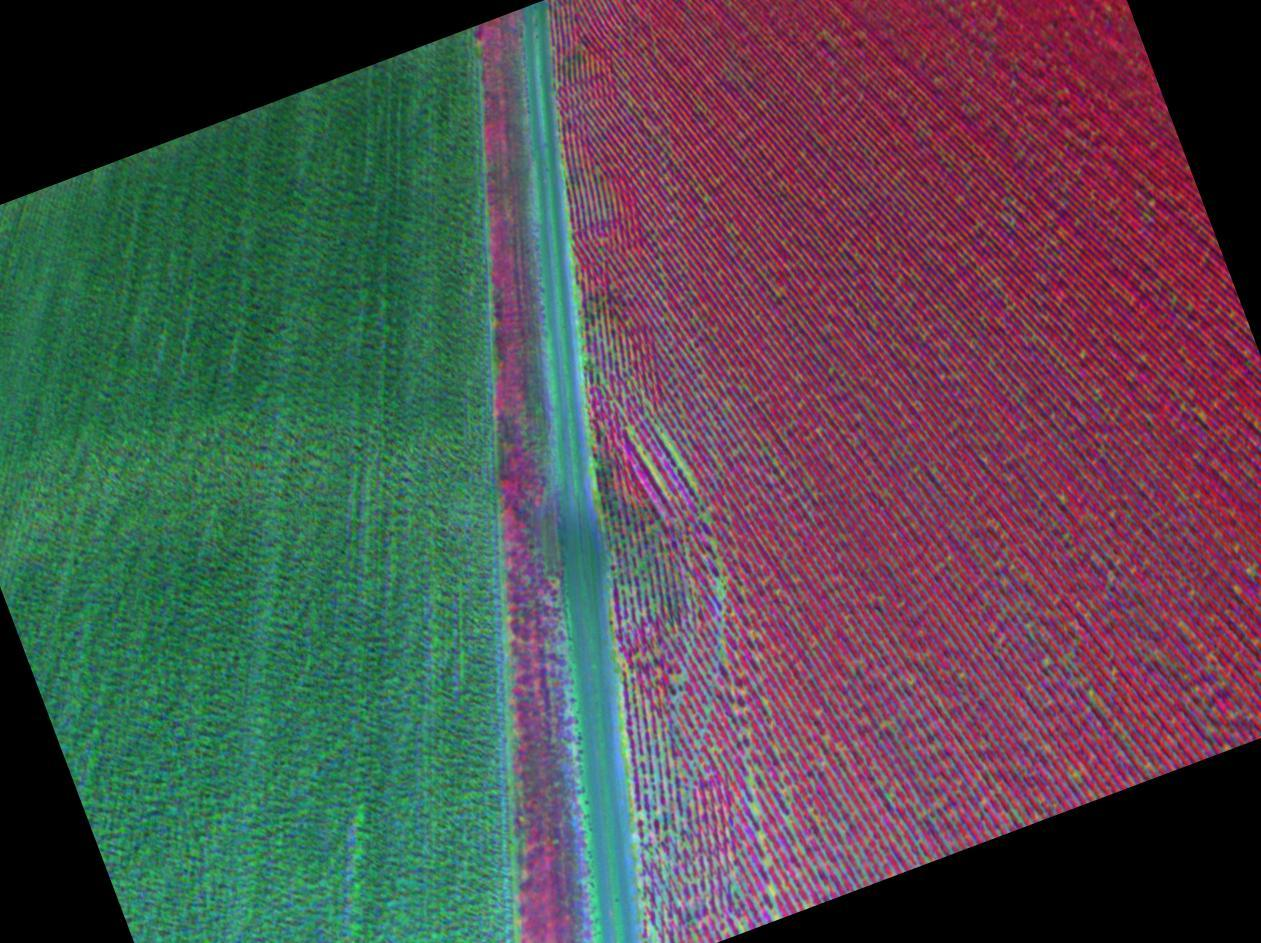dc: (647, 461, 651, 465), (746, 781, 750, 785), (672, 450, 677, 453), (1063, 536, 1066, 538)
